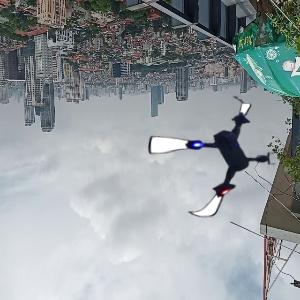drone: (149, 96, 279, 226)
